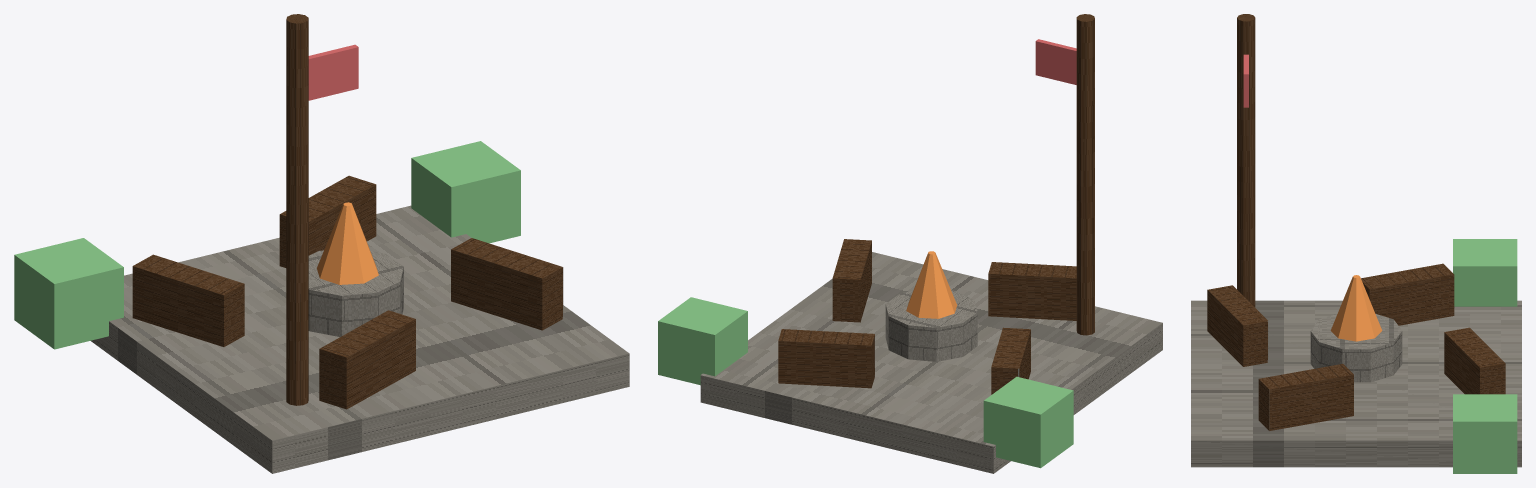
Rendered from gathering_place.glb.
The picture shows the model from 3 angles, left to right: view 1: azimuth 30°, elevation 25°; view 2: azimuth 150°, elevation 25°; view 3: azimuth 270°, elevation 25°; orthographic projection. The views are drawn at different scales.
Visible parts, largest first — view 1: Platz, Gebuesch2907, Gebuesch3107, Mast, Bank1, Bank3, Bank2, Feuer, Bank0, Flamme, Fahne; view 2: Platz, Gebuesch2907, Gebuesch3107, Mast, Bank0, Bank2, Feuer, Bank1, Flamme, Bank3, Fahne; view 3: Platz, Gebuesch3107, Mast, Bank1, Gebuesch2907, Bank3, Feuer, Bank2, Bank0, Flamme.
Boxes of the visible parts, x1,y1,x2,y2 form: Platz: (90,205,629,473); Gebuesch2907: (14,238,123,349); Gebuesch3107: (411,141,520,243); Mast: (286,14,308,405); Bank1: (451,238,563,330); Bank3: (132,254,244,346); Bank2: (319,310,415,409); Feuer: (308,250,403,336); Bank0: (279,175,376,267); Flamme: (316,202,378,284); Fahne: (308,44,358,100); Platz: (700,252,1162,473); Gebuesch2907: (983,376,1073,468); Gebuesch3107: (658,297,747,385); Mast: (1076,14,1094,335); Bank0: (778,329,874,388); Bank2: (988,262,1076,320); Feuer: (885,290,977,361); Bank1: (832,239,871,322); Flamme: (906,251,957,318); Bank3: (991,327,1030,394); Fahne: (1035,39,1076,84); Platz: (1191,300,1521,467); Gebuesch3107: (1453,394,1517,473); Mast: (1237,14,1255,307); Bank1: (1258,364,1353,430); Gebuesch2907: (1453,239,1517,306); Bank3: (1361,263,1454,325); Feuer: (1310,314,1402,382); Bank2: (1207,285,1268,366); Bank0: (1444,327,1505,394); Flamme: (1330,275,1382,341).
Bounding box in the file's own units: 2.35 × 2 × 1.8.
Materials: 5 (2 with a texture image).
